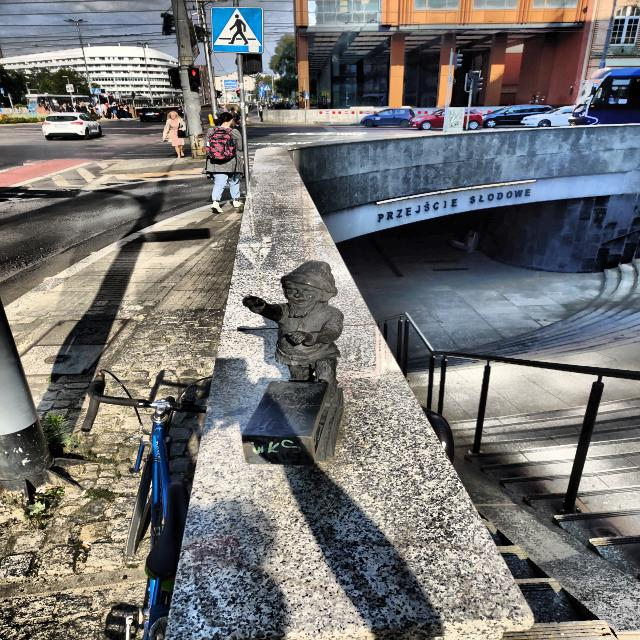Elementek: (242, 261, 343, 465)
